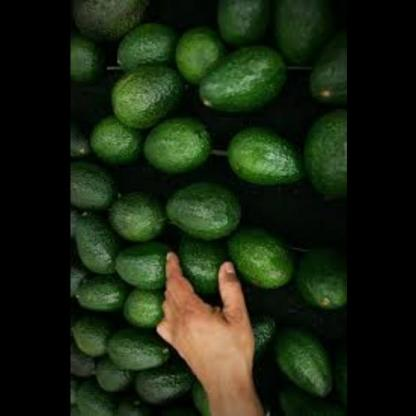avocado: (207, 124, 302, 196), (193, 50, 286, 119), (267, 324, 332, 415), (262, 0, 345, 64), (160, 179, 235, 248), (290, 242, 346, 333), (223, 215, 290, 289), (144, 112, 206, 184), (110, 65, 183, 125), (68, 0, 156, 45), (204, 0, 280, 52), (302, 26, 345, 115), (84, 110, 146, 168), (304, 121, 346, 205), (104, 330, 175, 379), (106, 24, 164, 78), (69, 158, 120, 218), (72, 214, 117, 279), (171, 21, 218, 82), (108, 247, 173, 291), (98, 188, 154, 239), (108, 285, 164, 331), (75, 280, 125, 321), (69, 381, 116, 415), (69, 323, 101, 367), (69, 35, 95, 87)
